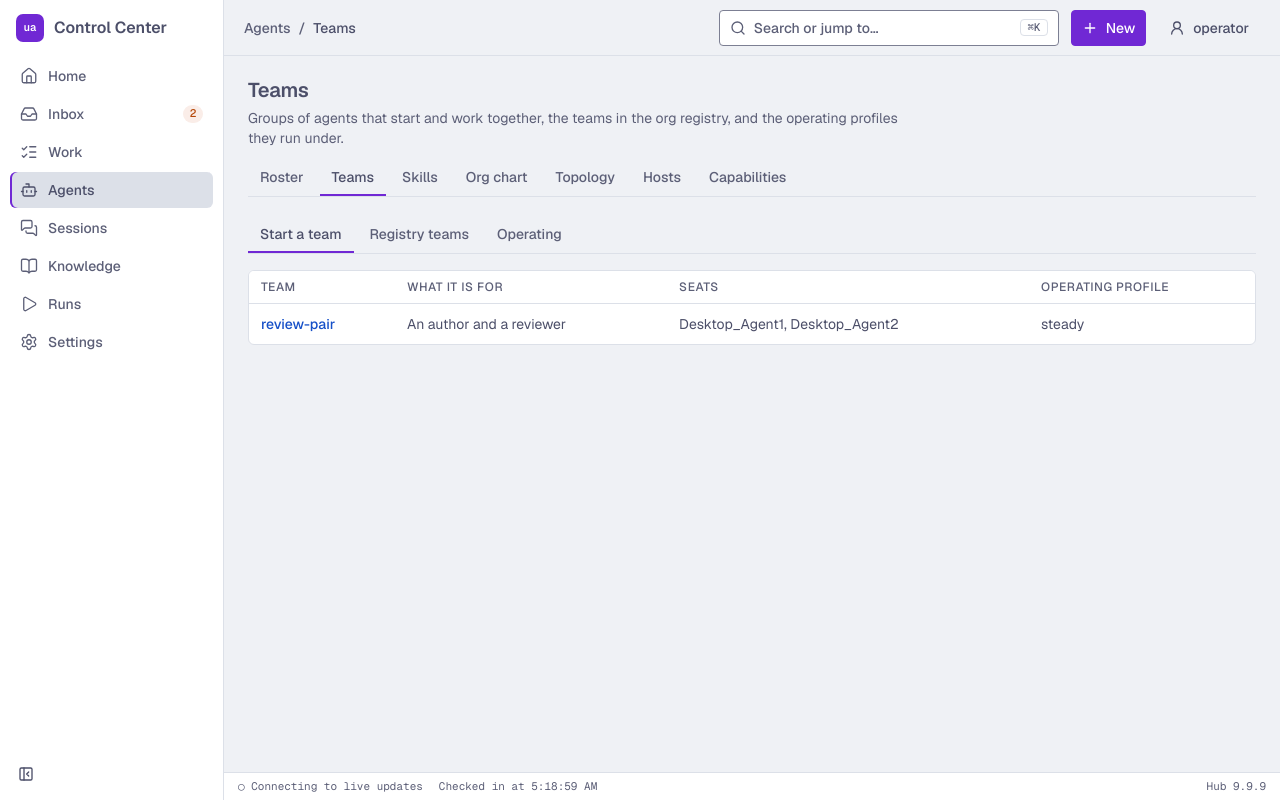
Test: agents: teams › lists team specs, opens a plan from the URL and starts the team after a confirm
Click the link "review-pair" at (298,324), box [261,315,335,333]
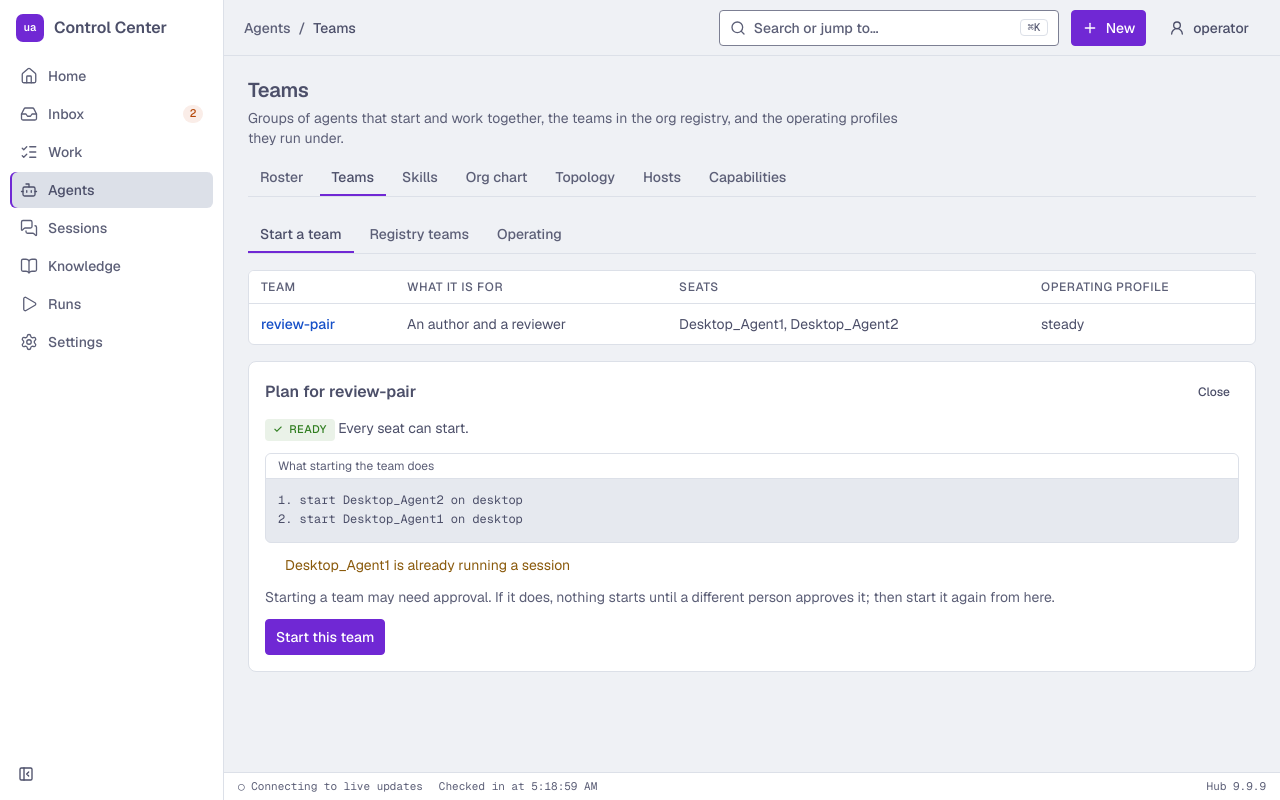
Result: the text "start Desktop_Agent2 on desktop" is shown at [278,492,523,527]
Result: the list item "Desktop_Agent1 is already running a session" is shown at [285,556,570,574]
Click the button "Start this team" at (325,636), box [265,618,385,654]
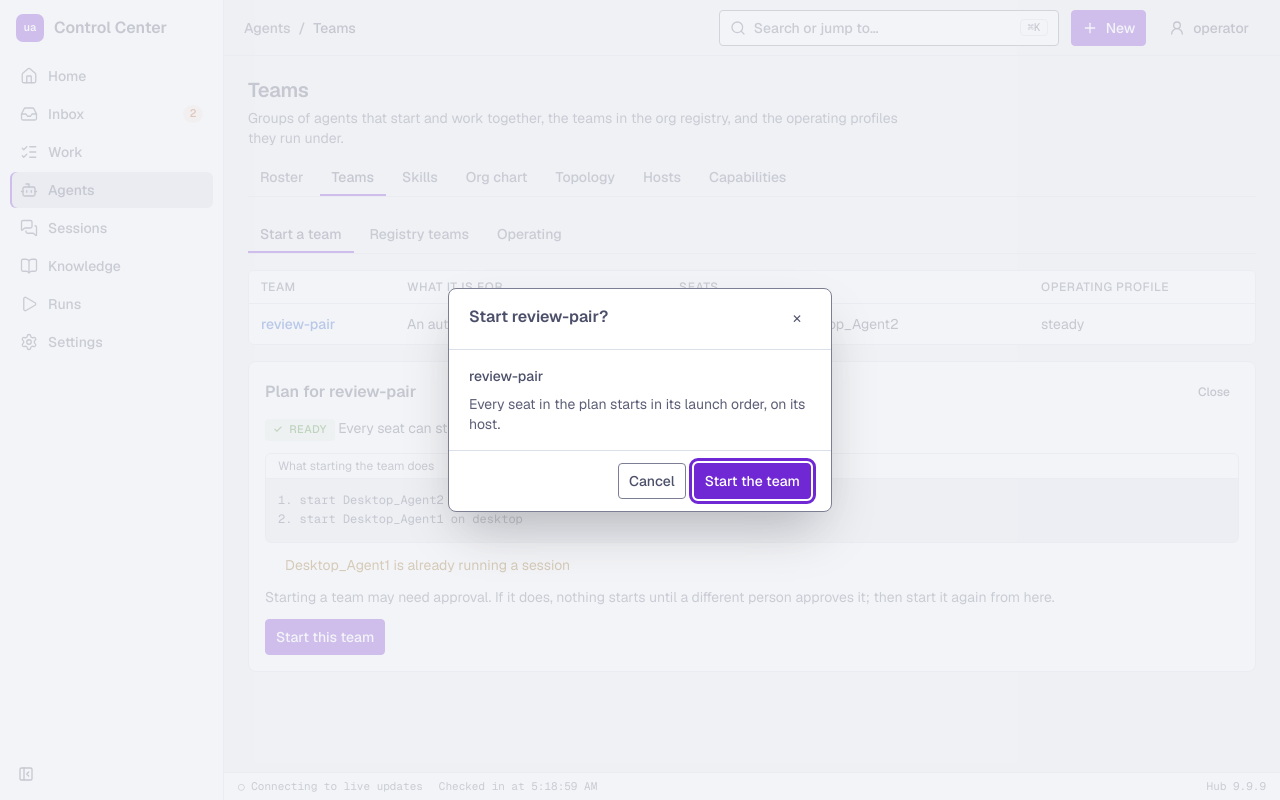
Click the button "Start the team" at (752,481), box [694,463,811,499]
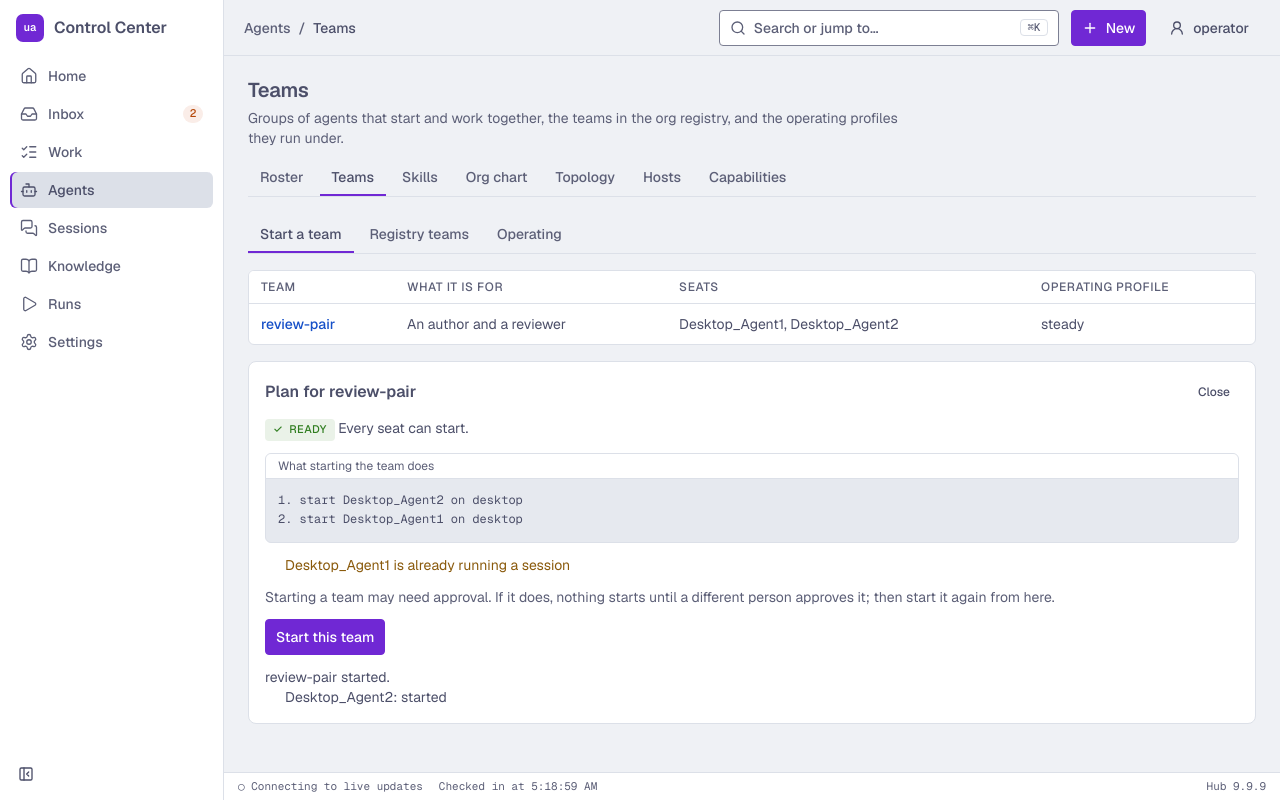
Result: the text "review-pair started." is shown at [265,668,390,686]
